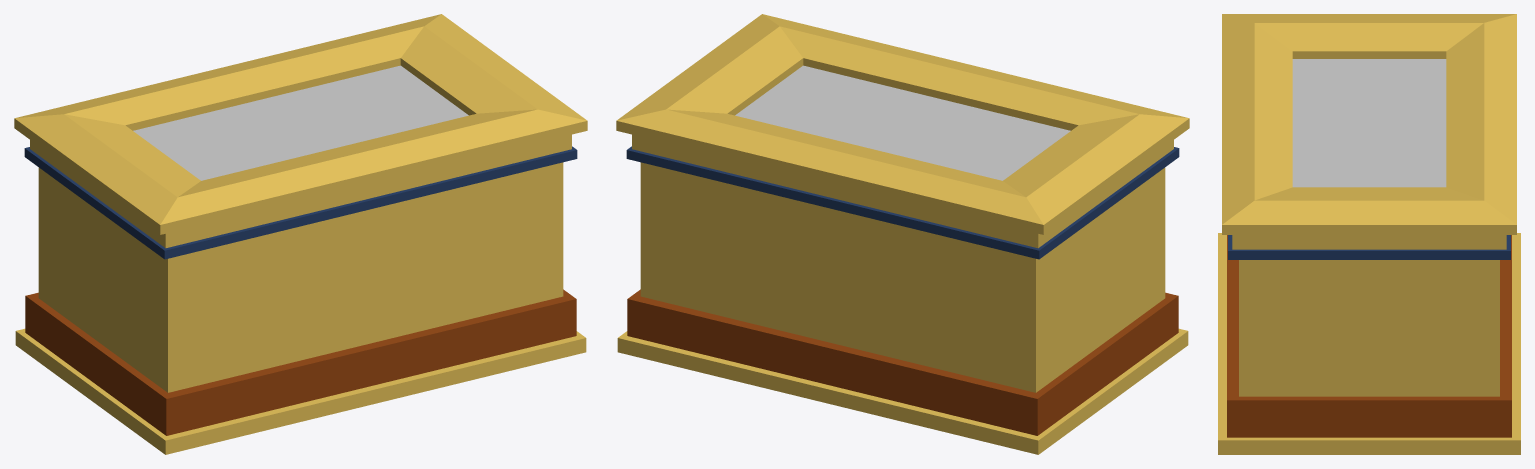
File: egy_chest2.fbx
3 renders of one model, left to right at view 1: azimuth 30°, elevation 25°; view 2: azimuth 150°, elevation 25°; view 3: azimuth 270°, elevation 25°, orthographic.
Visible parts, largest first — view 1: chest2; view 2: chest2; view 3: chest2.
Part boxes in pixels (bbox=[...]): chest2: bbox=[14, 14, 587, 454]; chest2: bbox=[616, 14, 1189, 454]; chest2: bbox=[1218, 14, 1520, 454].
Size of the model in its own units: 1.62 by 0.8591 by 0.9848.
